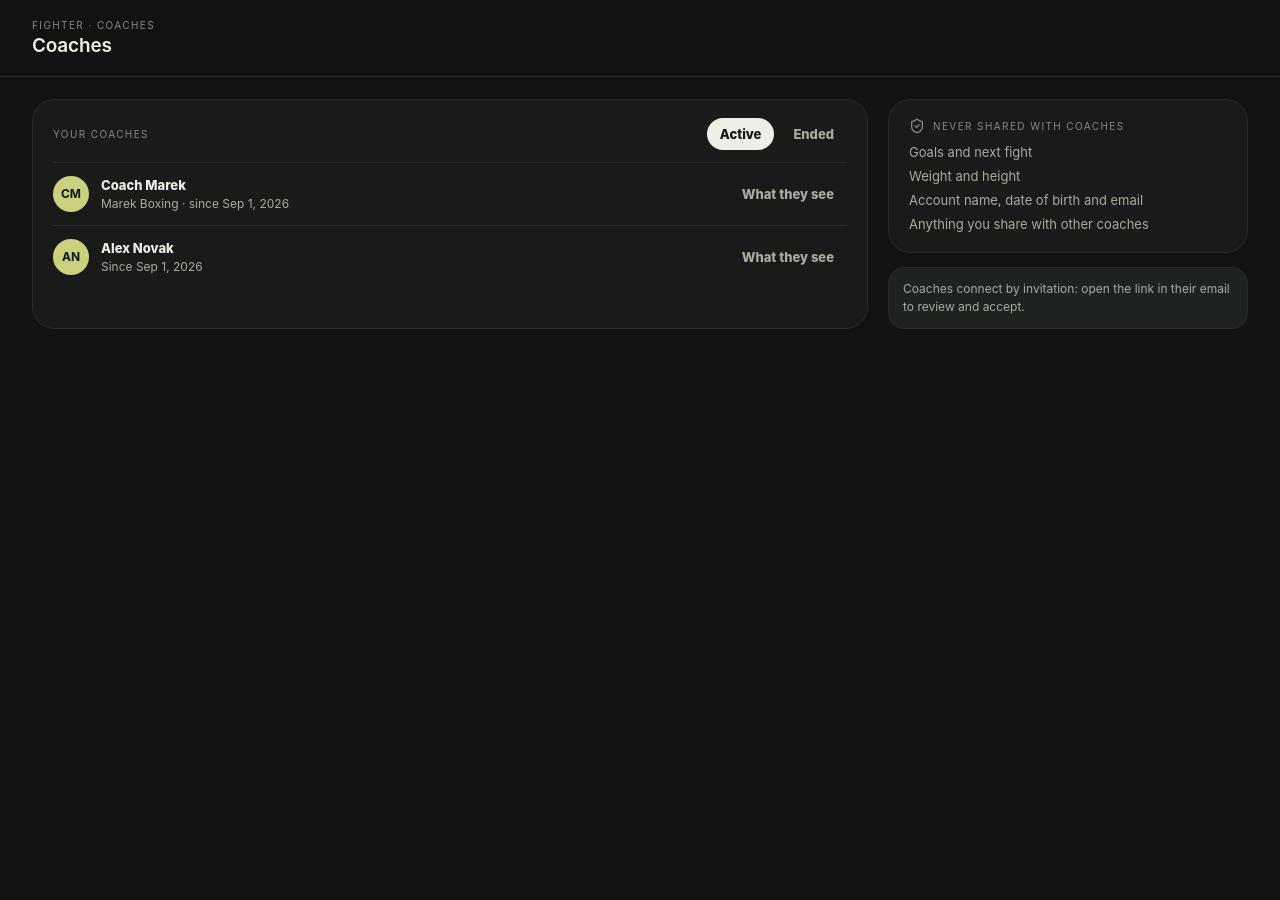
Test: My coaches (WFC1) › shows what a coach sees inline and ends only that relationship on the backend's 204
The width and height of the screenshot is (1280, 900).
Click the button "What they see" in the row of "Marek Boxing · since Sep 1, 2026": (788, 194) [729,178,847,210]
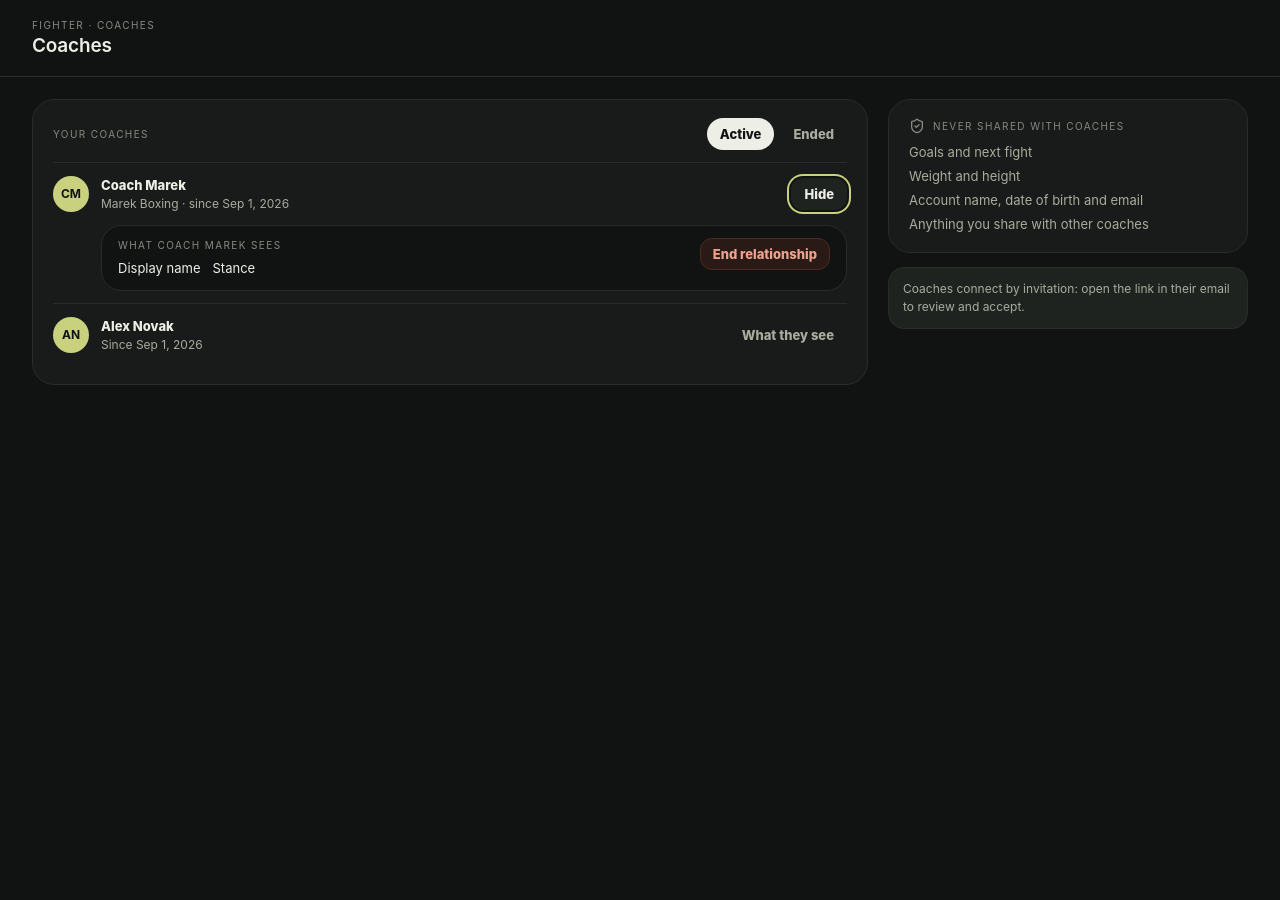
Expected: the heading "What Coach Marek sees" is shown, [118,239,282,251]
Expected: the list item "Stance" is shown, [212,258,255,278]
Click the button "End relationship": (765, 254) [700,238,830,270]
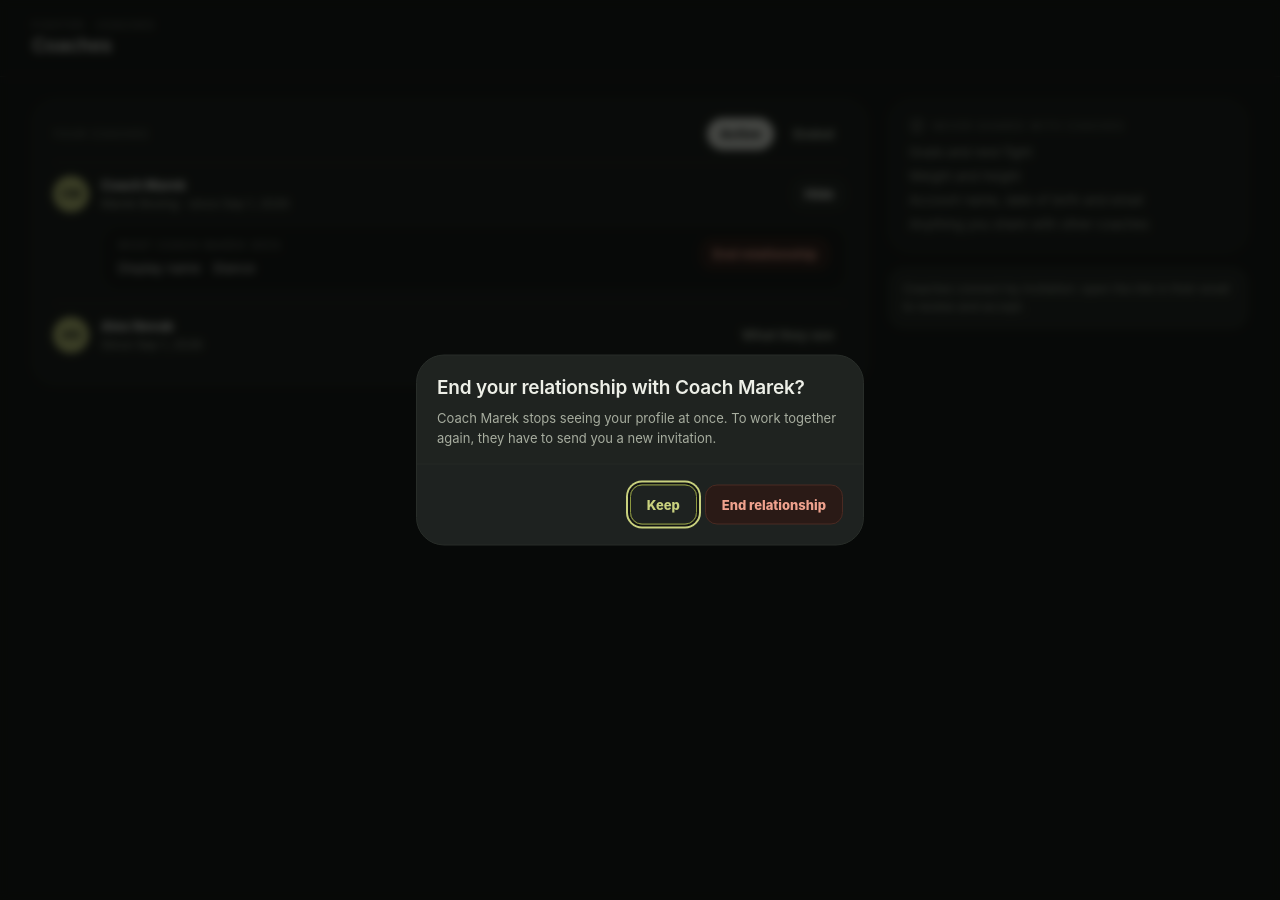
Click the button "Keep": (663, 504) [630,484,697,524]
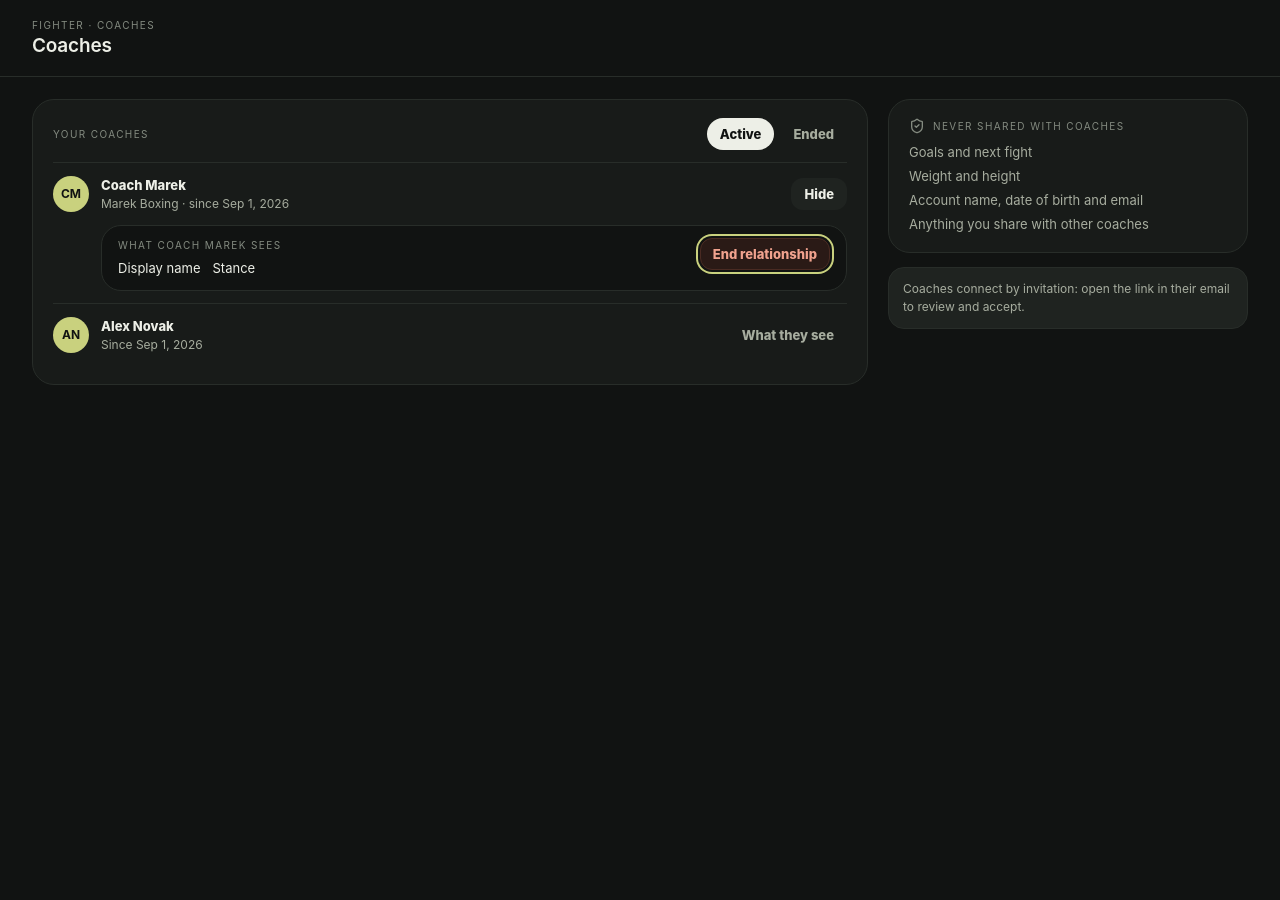
Click the button "End relationship": (765, 254) [700,238,830,270]
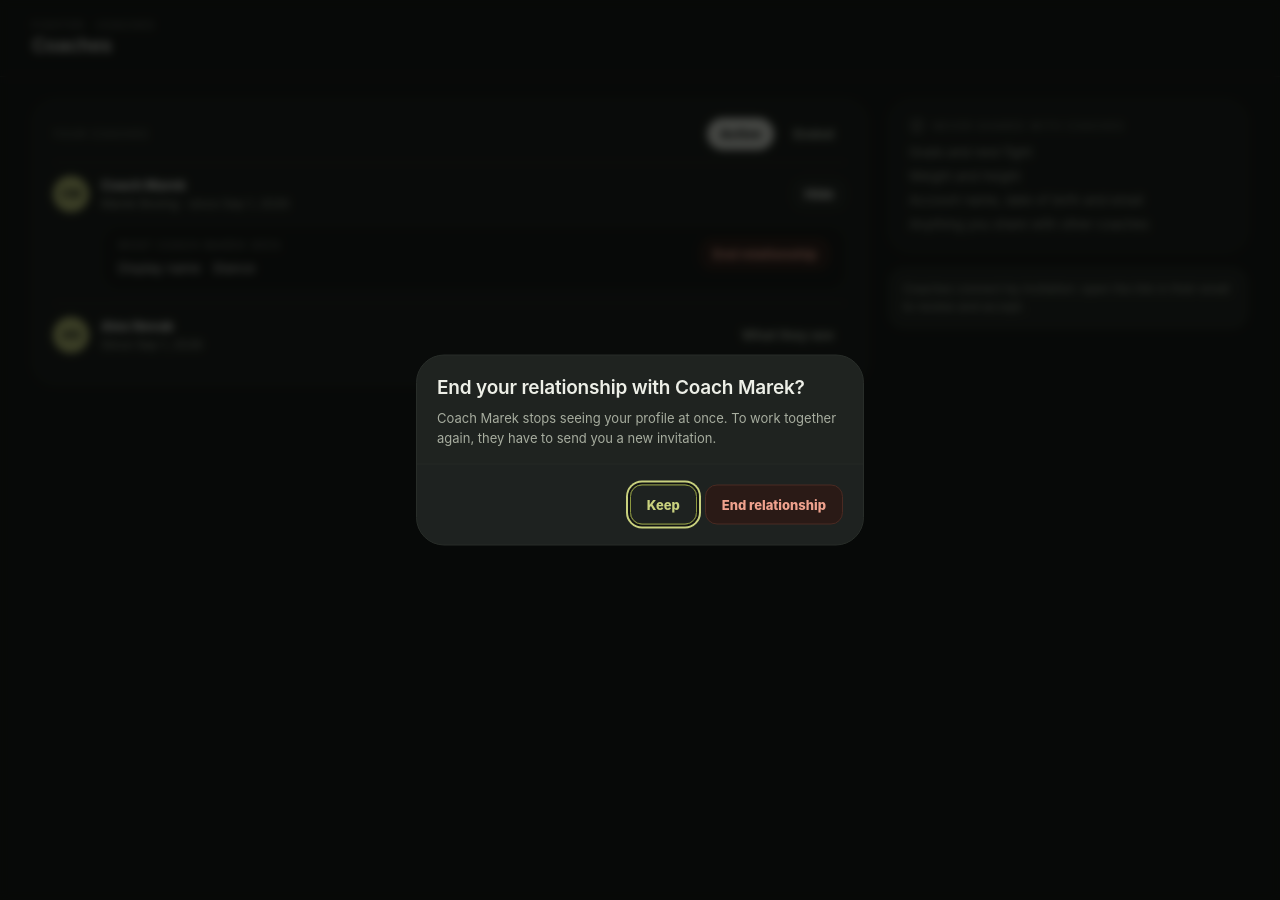
Click the button "End relationship": (774, 504) [705,484,843,524]
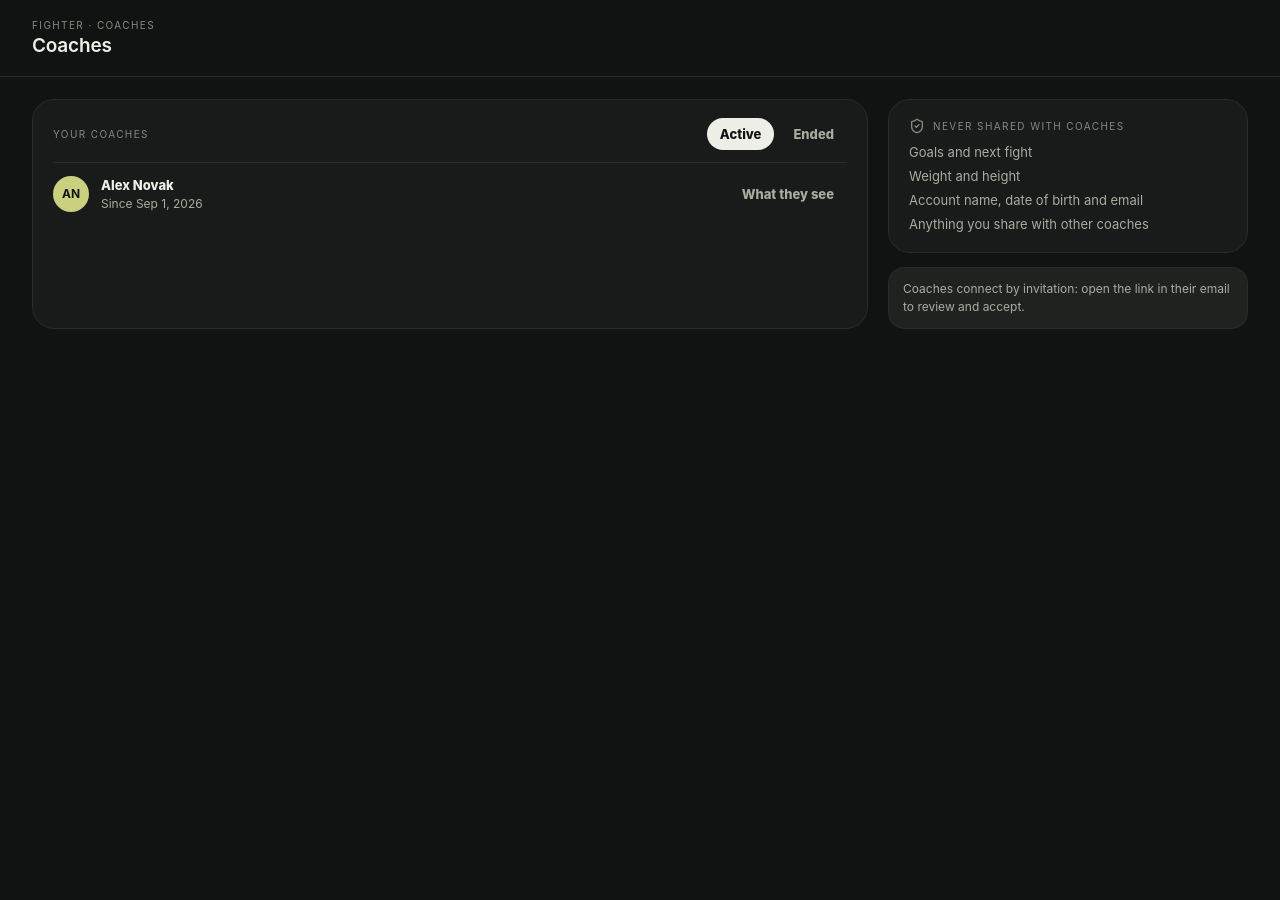
Expected: the text "Alex Novak" is shown, [101,177,174,193]
Expected: the text "Coach Marek" is gone
